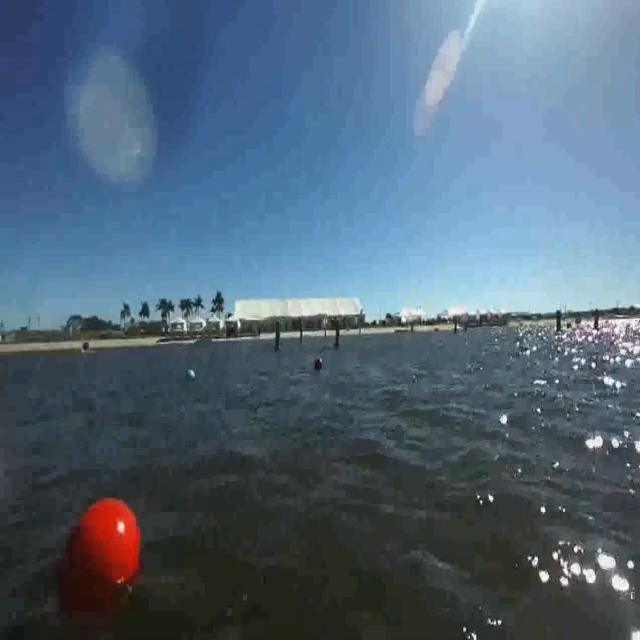green-buoy: (187, 370, 196, 384)
green-column-buoy: (273, 322, 284, 354)
red-buoy: (51, 489, 154, 602), (315, 357, 323, 369)
red-column-buoy: (335, 321, 343, 348)
